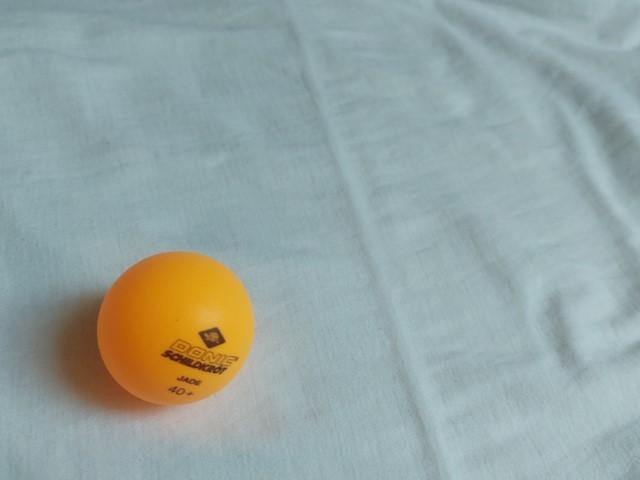oball: (89, 247, 259, 414)
